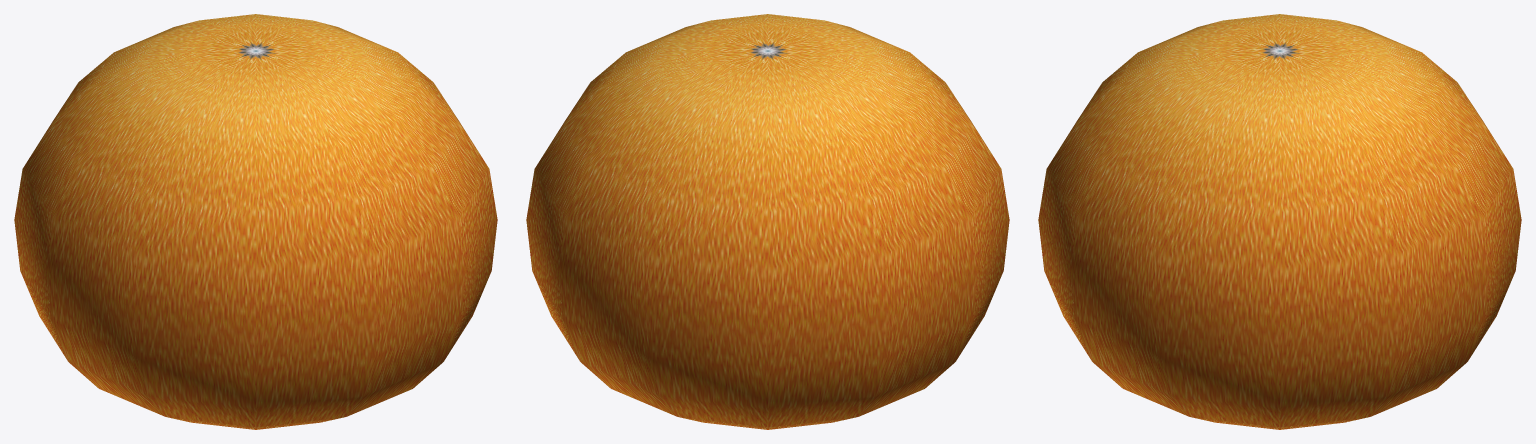
3 views of the same model, side by side, from view 1: azimuth 30°, elevation 25°; view 2: azimuth 150°, elevation 25°; view 3: azimuth 270°, elevation 25° (orthographic).
Parts seen in each view (by area): view 1: Joint_0_Object_0; view 2: Joint_0_Object_0; view 3: Joint_0_Object_0.
Boxes of the visible parts, x1=… form: Joint_0_Object_0: x1=14, y1=14, x2=497, y2=429; Joint_0_Object_0: x1=526, y1=14, x2=1009, y2=429; Joint_0_Object_0: x1=1038, y1=14, x2=1521, y2=429.
Bounding box in the file's own units: 210 × 163 × 210.
1 material, 1 textured.
